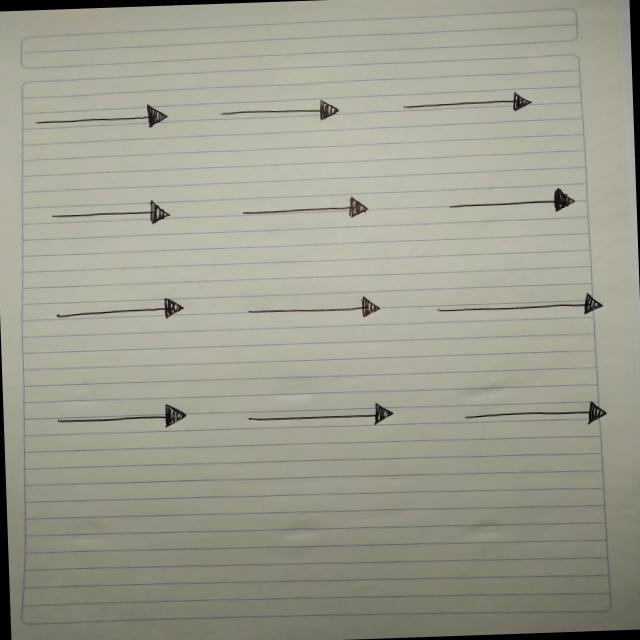arrow_line_right: (38, 394, 197, 444), (446, 388, 614, 434), (423, 287, 611, 327), (236, 394, 410, 436), (225, 187, 382, 232), (435, 180, 588, 223), (37, 195, 192, 232), (234, 292, 388, 329), (384, 84, 542, 120), (44, 293, 204, 328), (28, 100, 172, 136), (210, 95, 352, 128)
